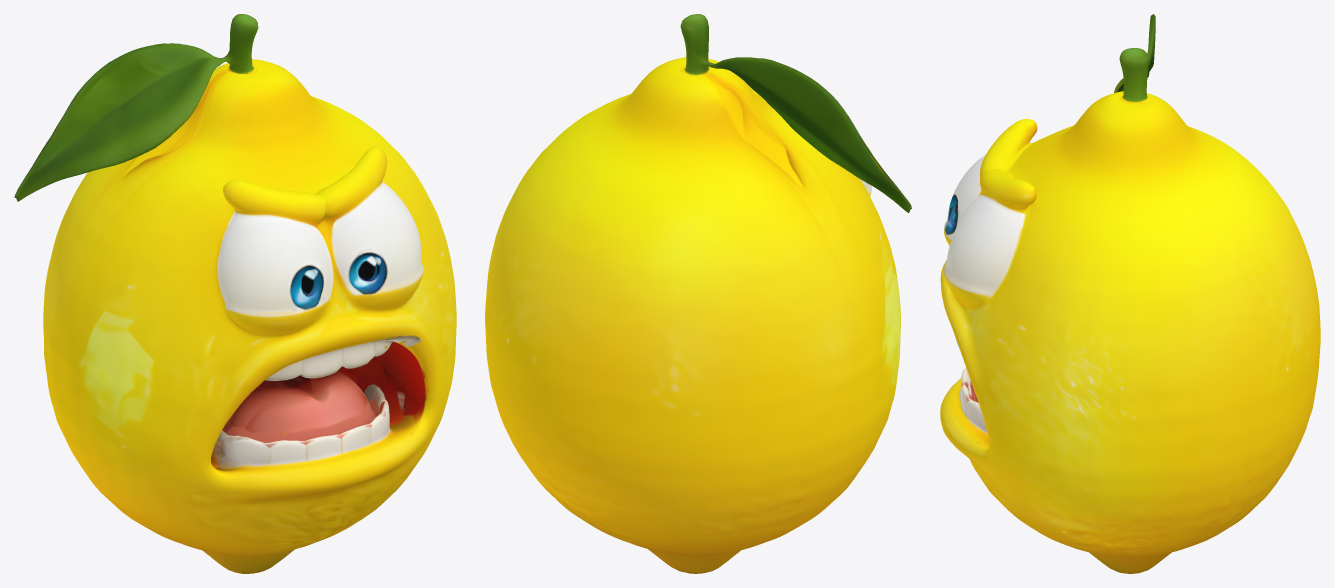
File: lemon.glb
The picture shows the model from 3 angles, left to right: view 1: azimuth 30°, elevation 25°; view 2: azimuth 150°, elevation 25°; view 3: azimuth 270°, elevation 25°; orthographic projection. The views are drawn at different scales.
Visible parts, largest first — view 1: model; view 2: model; view 3: model.
Boxes of the visible parts, left/top/right/bottom form: model: left=14, top=14, right=456, bottom=573; model: left=485, top=14, right=911, bottom=573; model: left=940, top=14, right=1320, bottom=573.
Size of the model in its own units: 1.48 by 1.91 by 1.27.
1 material, 1 textured.
